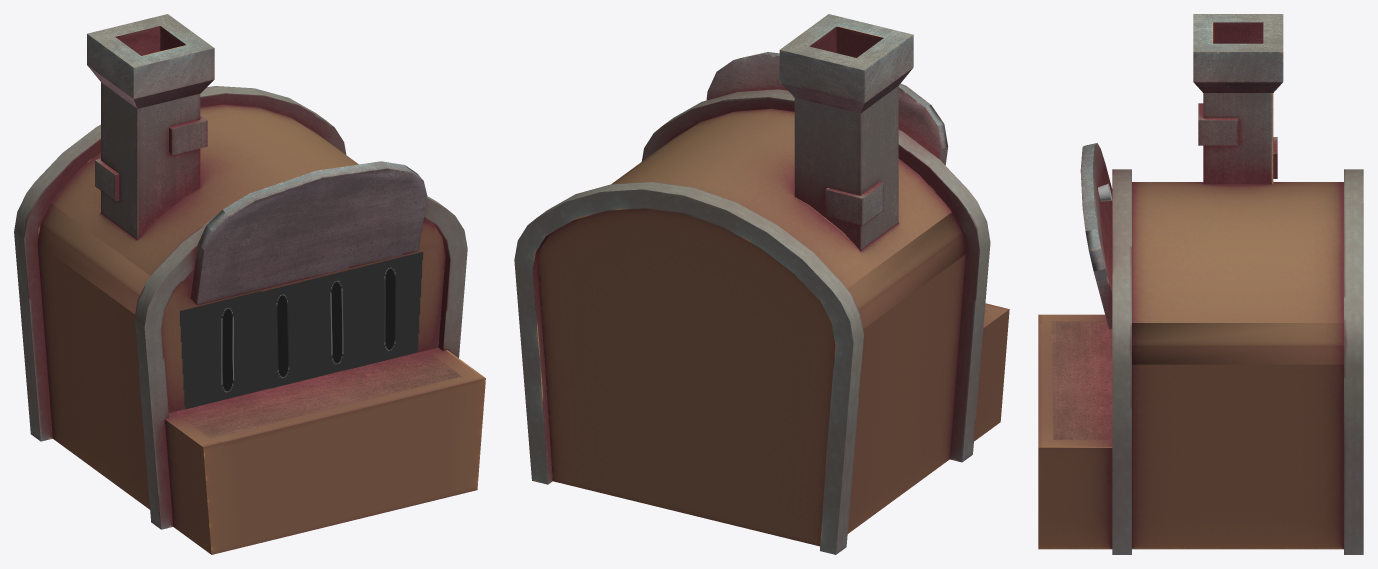
Rendered from Oven.fbx.
3 views of the same model, side by side, from view 1: azimuth 30°, elevation 25°; view 2: azimuth 150°, elevation 25°; view 3: azimuth 270°, elevation 25° (orthographic). The views are drawn at different scales.
Visible parts, largest first — view 1: Cube; view 2: Cube; view 3: Cube.
Boxes of the visible parts, x1,y1,x2,y2 form: Cube: (14,14,485,554); Cube: (514,14,1009,554); Cube: (1038,14,1363,554).
Bounding box in the file's own units: 216 × 273 × 195.
1 material, 1 textured.
